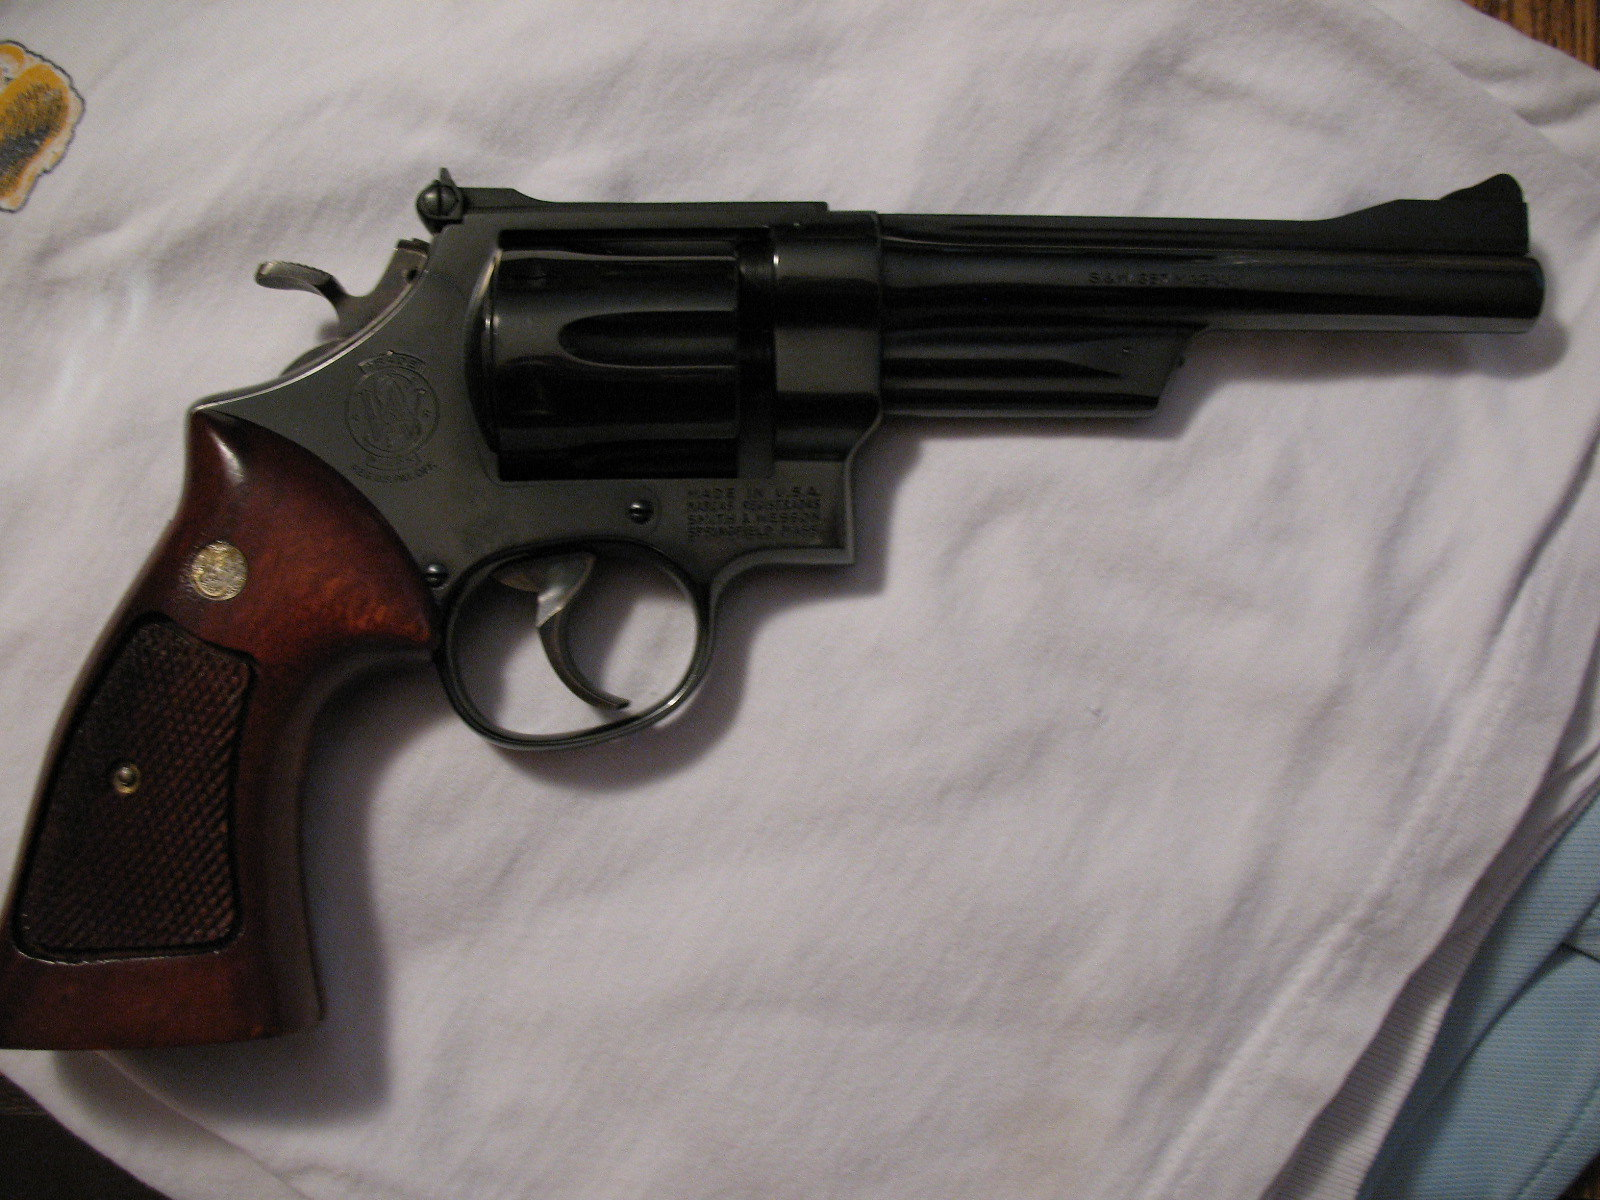gun: (4, 161, 1575, 1063)
